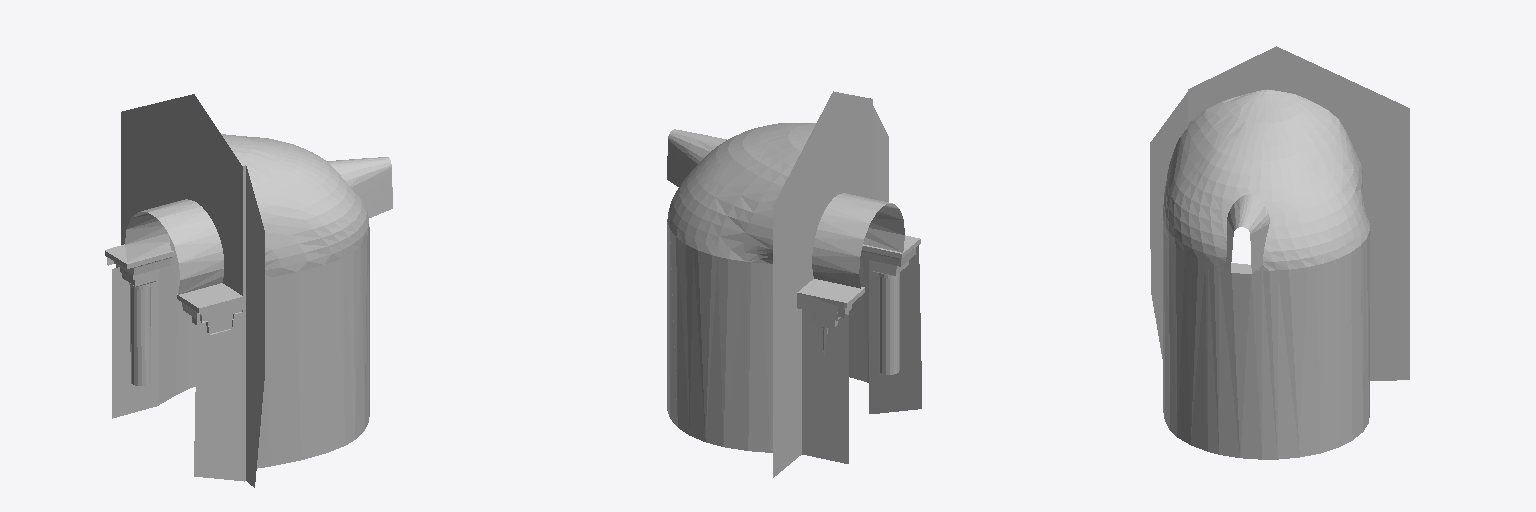
The model's file is 4_Pedret_XII.obj.
3 views of the same model, side by side, from view 1: azimuth 30°, elevation 25°; view 2: azimuth 150°, elevation 25°; view 3: azimuth 270°, elevation 25° (orthographic).
Parts seen in each view (by area): view 1: PEDRET_XII-baked-absN; view 2: PEDRET_XII-baked-absN; view 3: PEDRET_XII-baked-absN.
Boxes of the visible parts, <box> form: PEDRET_XII-baked-absN: <box>105,94,392,487</box>; PEDRET_XII-baked-absN: <box>667,91,921,477</box>; PEDRET_XII-baked-absN: <box>1150,46,1409,459</box>.
Bounding box in the file's own units: 2.85 × 4.23 × 2.79.